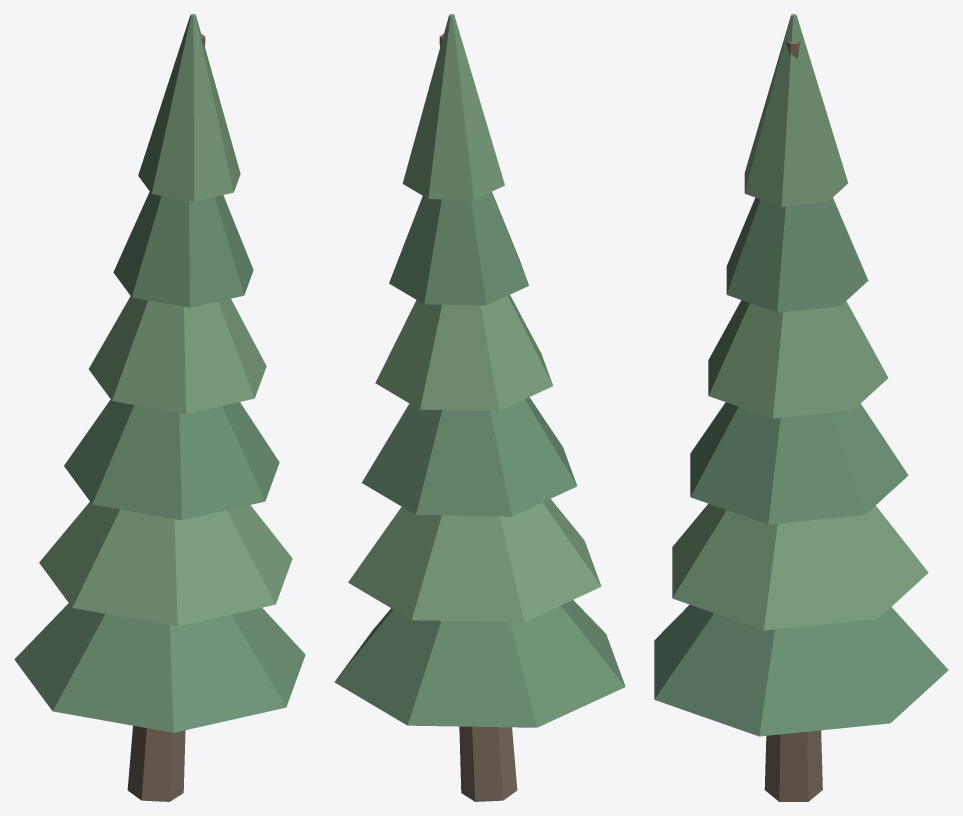
Rendered from pine_v38.glb.
The picture shows the model from 3 angles, left to right: view 1: azimuth 30°, elevation 25°; view 2: azimuth 150°, elevation 25°; view 3: azimuth 270°, elevation 25°; orthographic projection. The views are drawn at different scales.
Visible parts, largest first — view 1: lod0; view 2: lod0; view 3: lod0.
Boxes of the visible parts, x1,y1,x2,y2 form: lod0: (14, 14, 305, 801); lod0: (334, 14, 625, 801); lod0: (654, 14, 948, 801).
Size of what is drawn, in the model's own units: 2.08 by 6.04 by 2.03.
